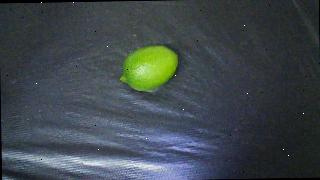LOCAL: (120, 45, 178, 92)
